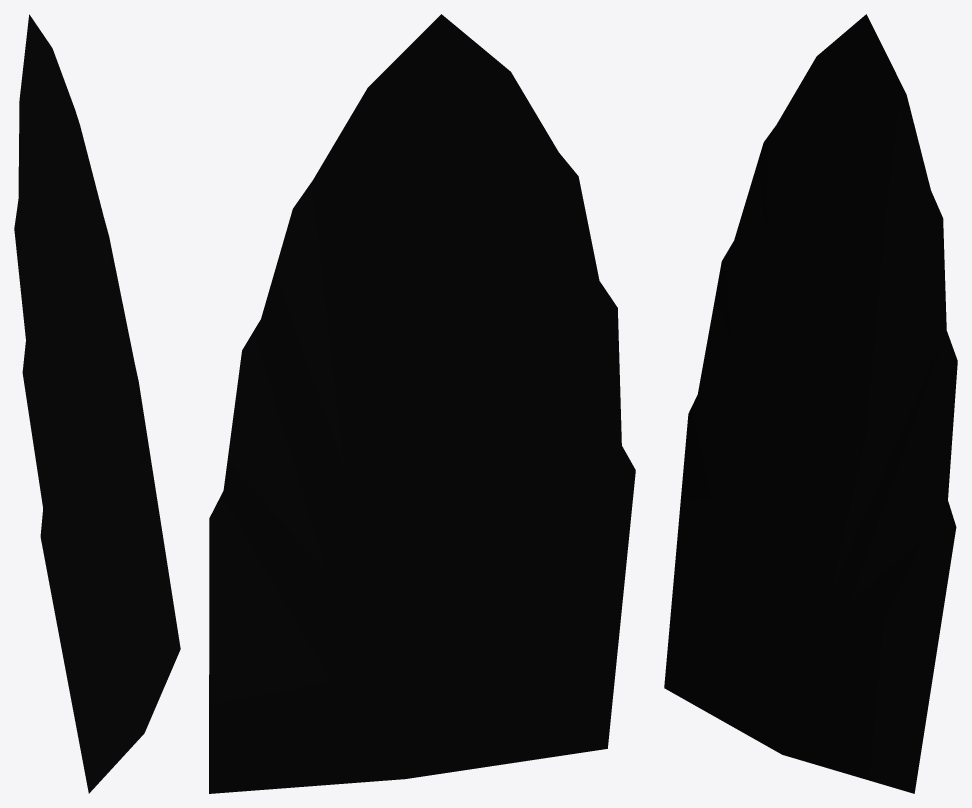
The model's file is palace_window_03.fbx.
3 views of the same model, side by side, from view 1: azimuth 30°, elevation 25°; view 2: azimuth 150°, elevation 25°; view 3: azimuth 270°, elevation 25° (orthographic). The views are drawn at different scales.
Parts seen in each view (by area): view 1: palace_tileset/palace_window_mat; view 2: palace_tileset/palace_window_mat; view 3: palace_tileset/palace_window_mat.
Boxes of the visible parts, x1=… form: palace_tileset/palace_window_mat: x1=14, y1=14, x2=180, y2=793; palace_tileset/palace_window_mat: x1=209, y1=14, x2=635, y2=793; palace_tileset/palace_window_mat: x1=664, y1=14, x2=957, y2=793.
Bounding box in the file's own units: 1.58 × 4.19 × 1.58.
